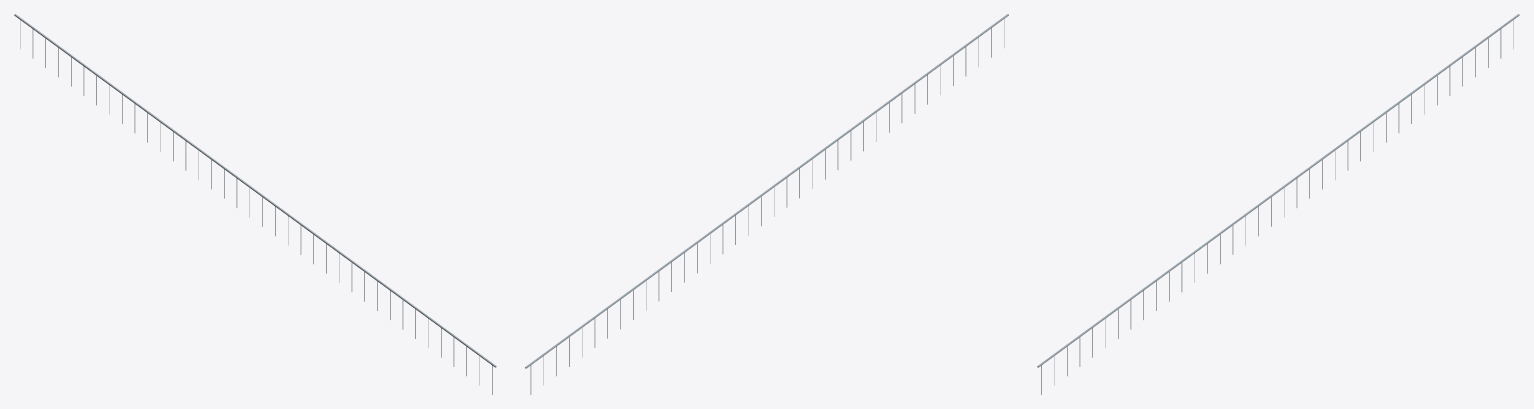
File: library-railing.glb
3 views of the same model, side by side, from view 1: azimuth 30°, elevation 25°; view 2: azimuth 150°, elevation 25°; view 3: azimuth 330°, elevation 25° (orthographic).
Visible parts, largest first — view 1: rail_top; view 2: rail_top; view 3: rail_top.
Boxes of the visible parts, bbox=[...] form: rail_top: bbox=[14, 14, 496, 367]; rail_top: bbox=[525, 14, 1008, 368]; rail_top: bbox=[1037, 14, 1519, 367].
Bounding box in the file's own units: 0.08 × 1.65 × 46.
